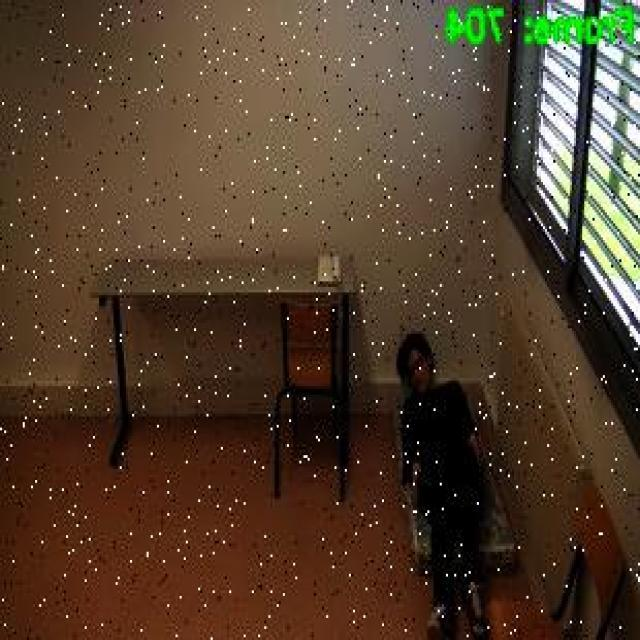fall: (391, 326, 494, 638)
